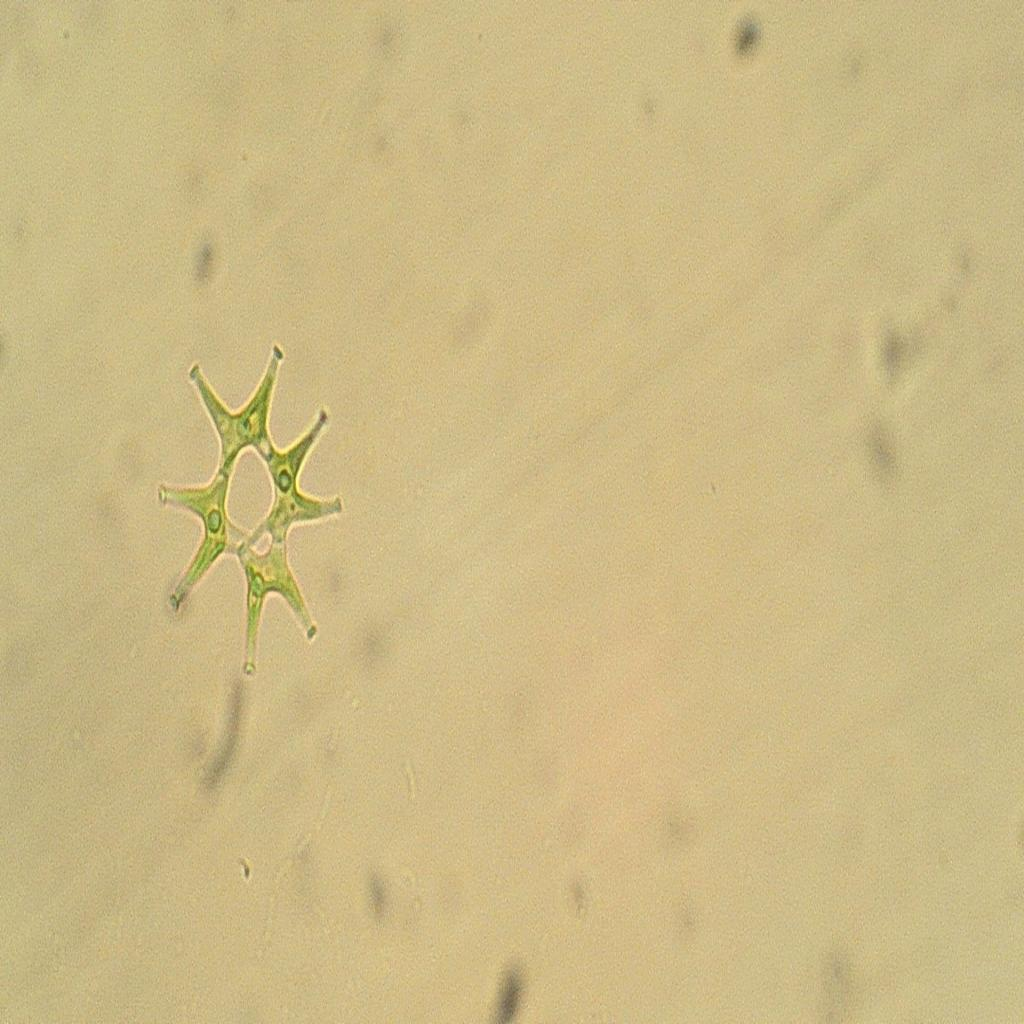Pediastrum_CF: (145, 319, 358, 697)
